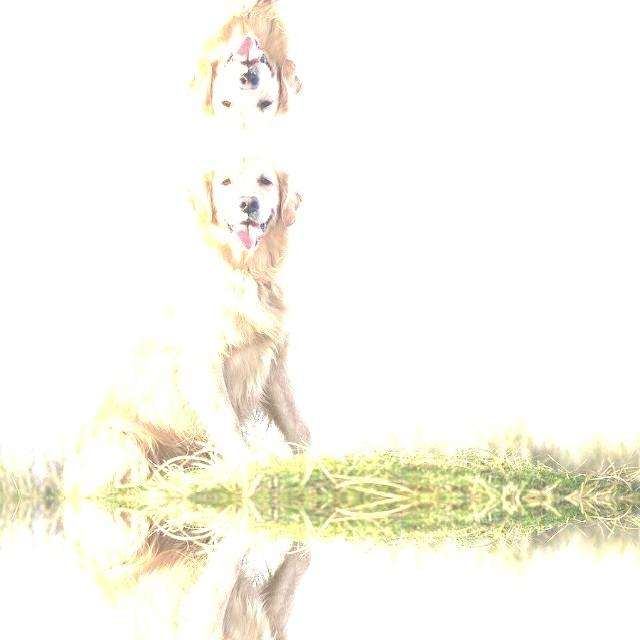dog: (74, 148, 312, 498), (74, 497, 312, 640), (74, 0, 312, 136)
